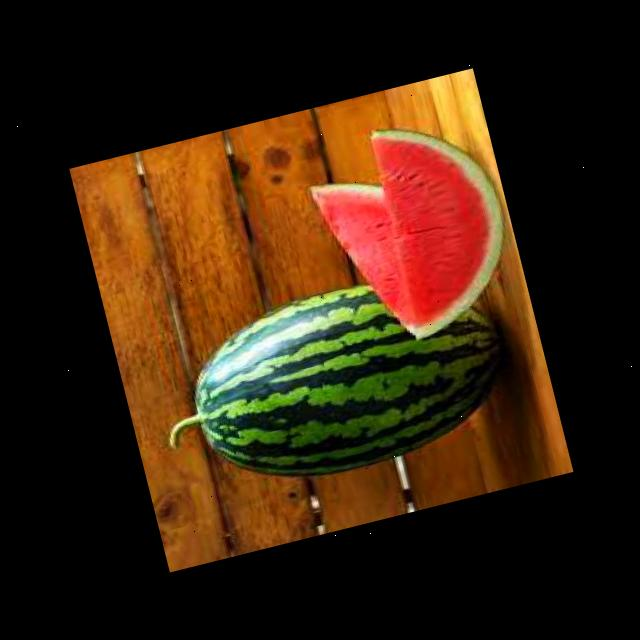watermelon: (174, 251, 524, 505), (362, 103, 528, 341), (306, 168, 421, 357)
